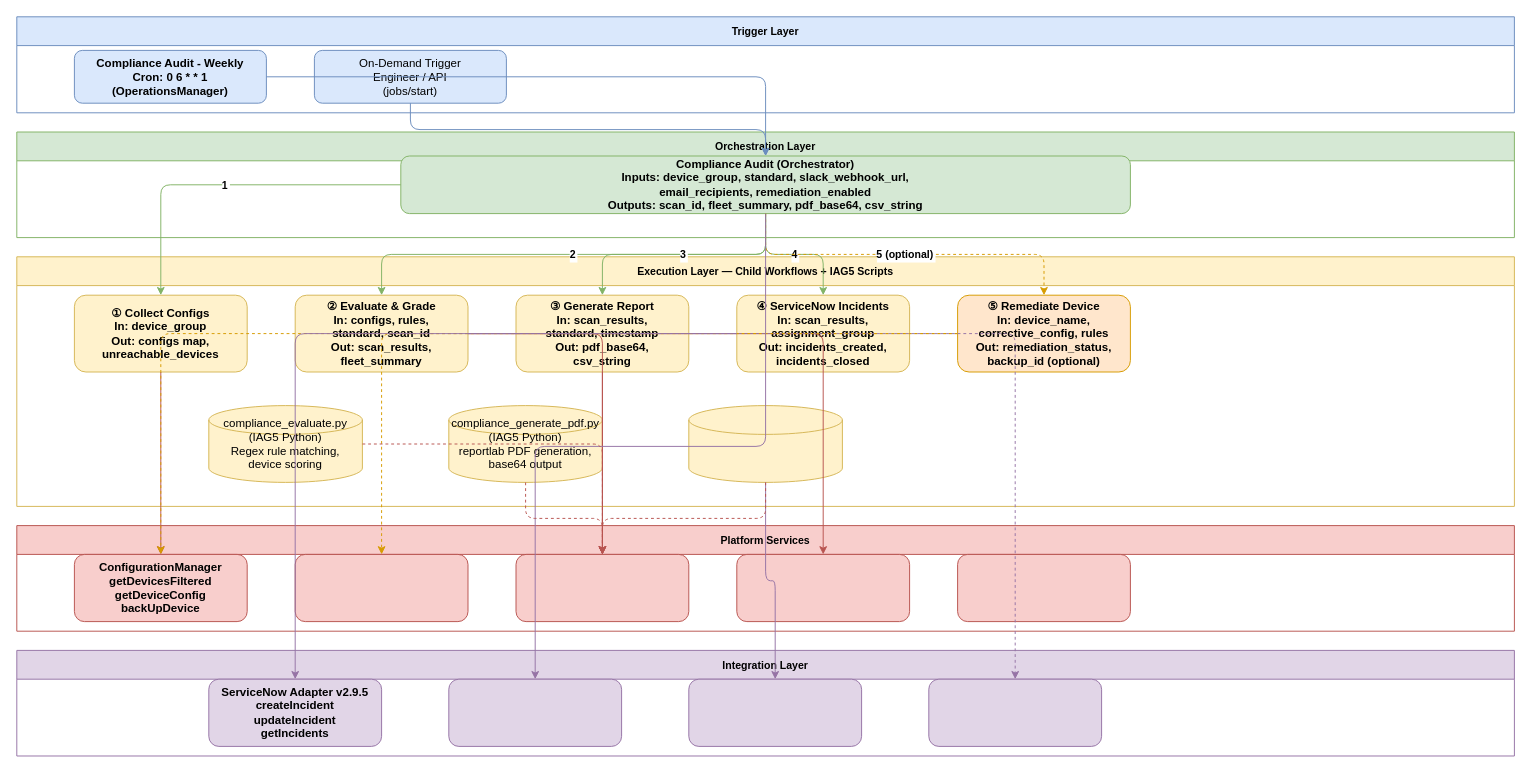
Some shapes in this 1531 by 773 pixel diagram are drawn without their labels. The shapes that lost their labels are listed below. From the top down, each one's centre as x and y in pixels, then its label:
At point (765, 443): "compliance_slack_notify.py (IAG5 Python) Slack webhook POST, scan summary".
At point (381, 587): "MOP RunCommandTemplate Get Running Config (show running-config)".
At point (602, 587): "IAG5 (selab-compute-iag) Python script execution RUNNING / ONLINE".
At point (823, 587): "IAP State Store (MongoDB-backed) scan_results per scan_id Trend / history".
At point (1043, 587): "OperationsManager Cron triggers Weekly schedule".
At point (535, 712): "Email Adapter v4.7.12 mailWithAdvancedFields PDF + CSV attachments".
At point (775, 712): "Slack (Incoming Webhook) HTTP POST via IAG5 Scan summary + scores".
At point (1015, 712): "GitLab Rules JSON storage CIS + Internal Policy Versioned rules files".
